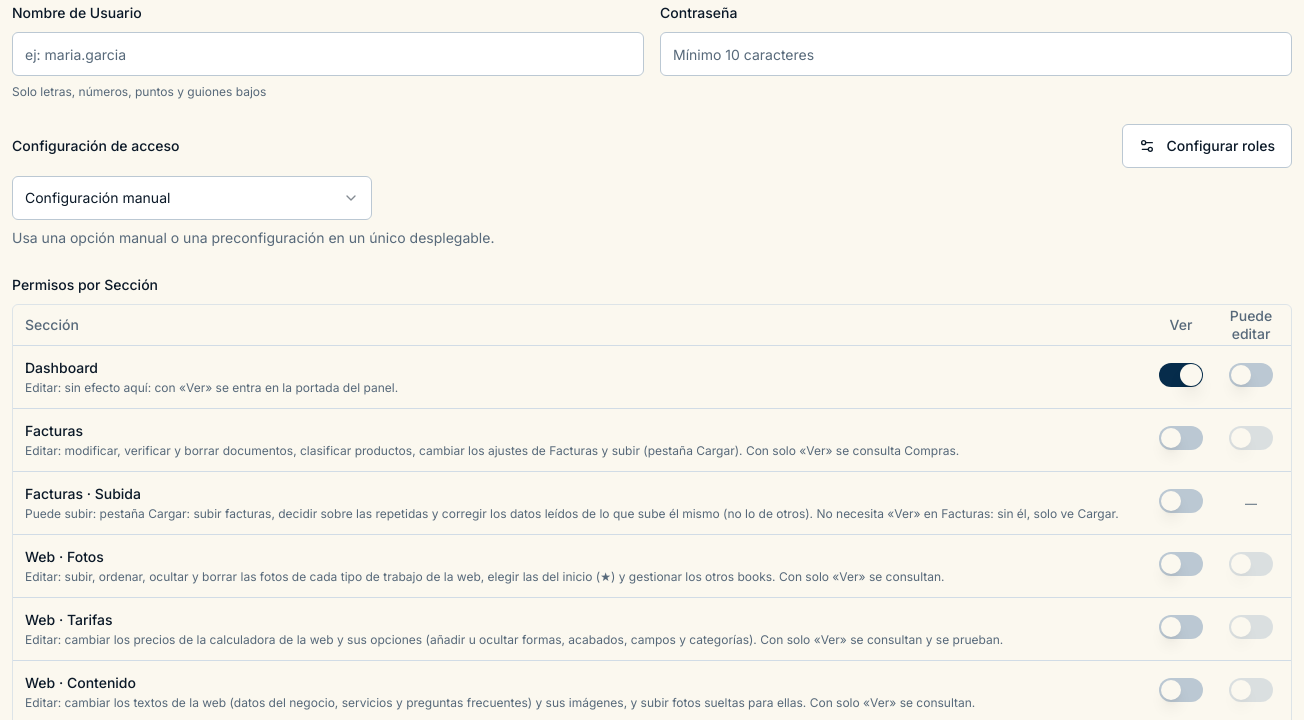
Scenario: InvitarUsuario · desplegable «Configuración de acceso» › con preconfigurados, salen en su grupo; el de «Tipos de usuario» sigue sin salir
Click the dropdown at {"x": 98, "y": 198}, box [12,176,372,220]
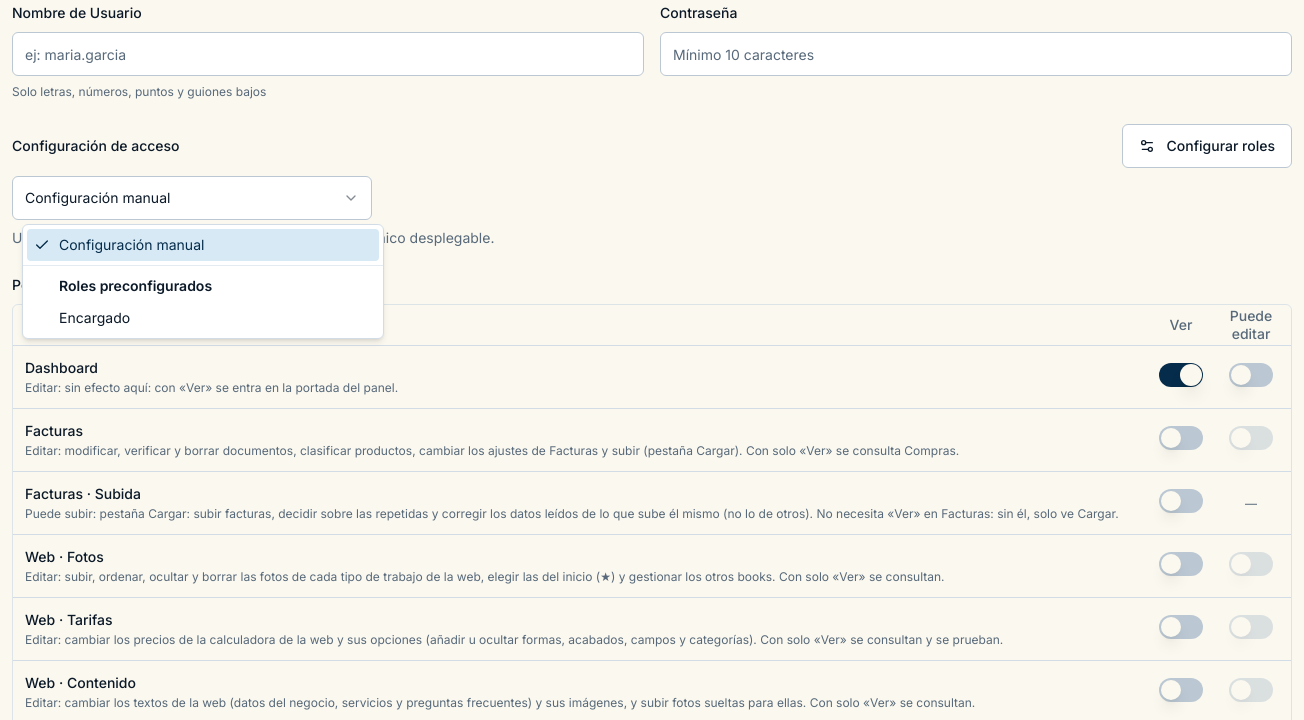
Now the text "Roles preconfigurados" is shown, box [59,277,212,294]
